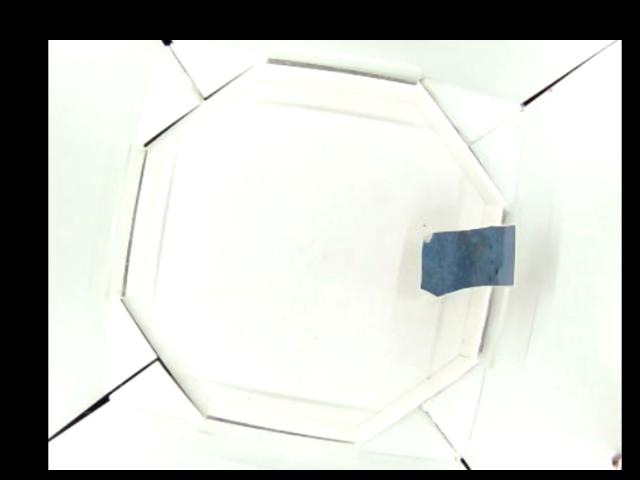China: (421, 224, 517, 298)
